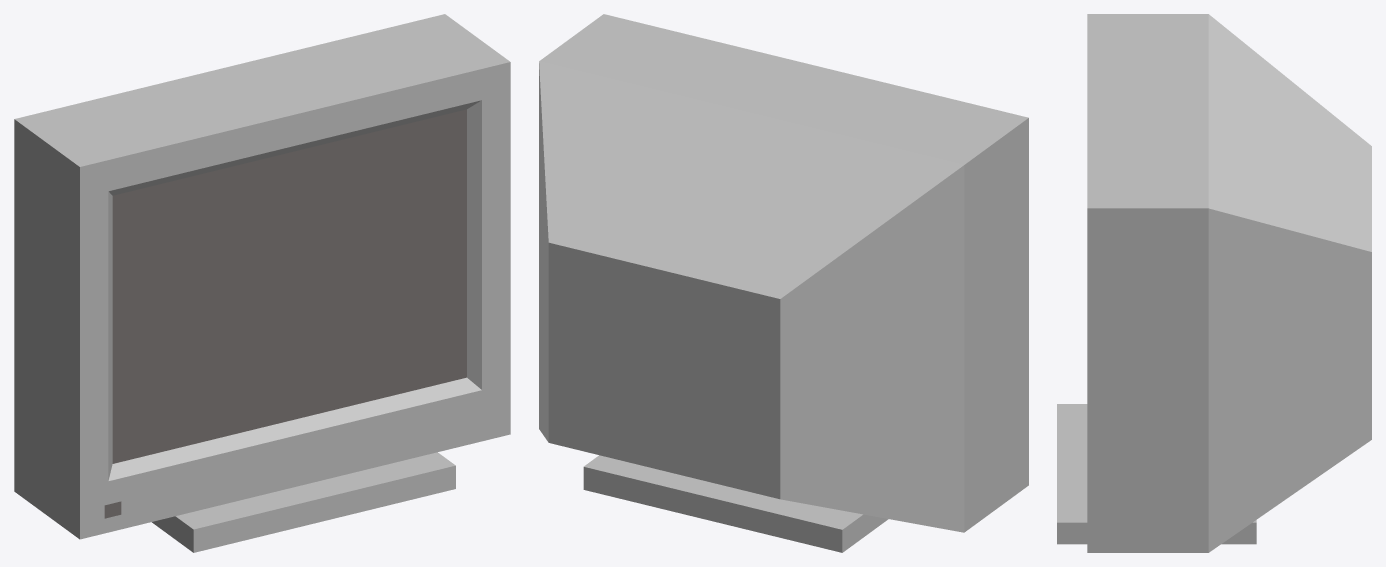
File: SM_Monitor_02.fbx
The picture shows the model from 3 angles, left to right: view 1: azimuth 30°, elevation 25°; view 2: azimuth 150°, elevation 25°; view 3: azimuth 270°, elevation 25°; orthographic projection. The views are drawn at different scales.
Visible parts, largest first — view 1: SM_Monitor_02; view 2: SM_Monitor_02; view 3: SM_Monitor_02.
Boxes of the visible parts, box(x1,y1,x2,y2) form: SM_Monitor_02: box(14, 14, 510, 552); SM_Monitor_02: box(539, 14, 1028, 552); SM_Monitor_02: box(1057, 14, 1371, 552).
Size of the model in its own units: 76.21 by 67.23 by 52.16.
Materials: 1 (1 with a texture image).
